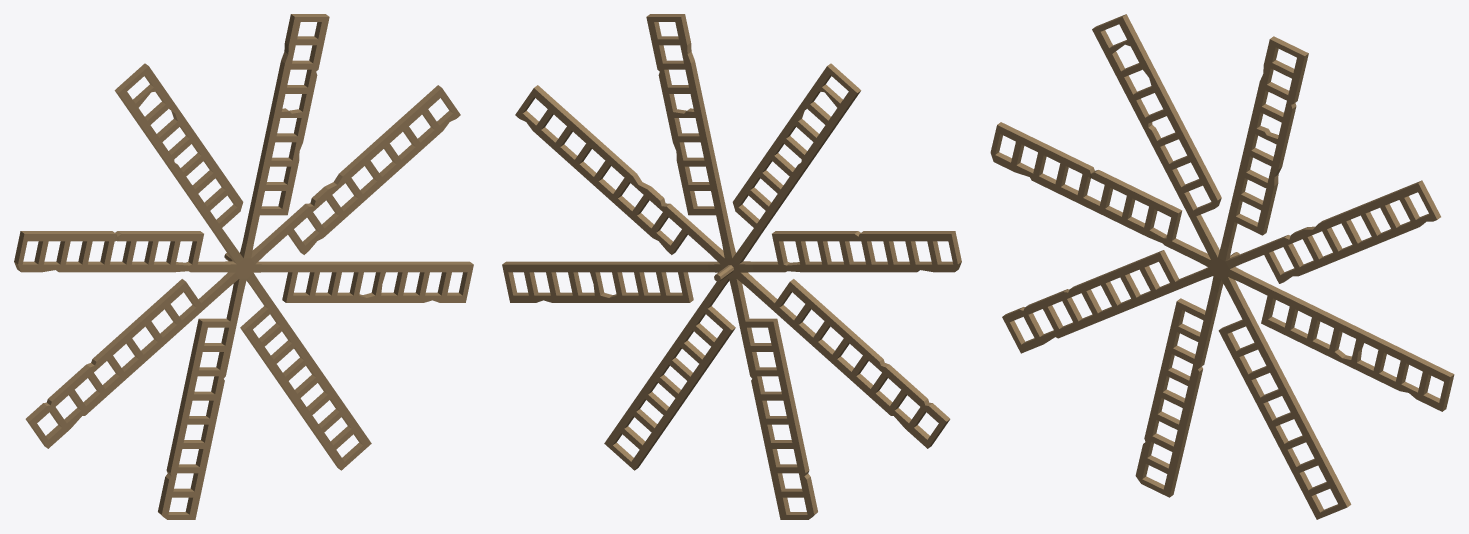
File: bd_windmill_blades.glb
3 renders of one model, left to right at view 1: azimuth 30°, elevation 25°; view 2: azimuth 150°, elevation 25°; view 3: azimuth 330°, elevation 25°, orthographic.
Parts seen in each view (by area): view 1: TowerWindmill_Blades_Cylinder.006; view 2: TowerWindmill_Blades_Cylinder.006; view 3: TowerWindmill_Blades_Cylinder.006.
Part boxes in pixels (x1=…): TowerWindmill_Blades_Cylinder.006: x1=14, y1=14, x2=473, y2=519; TowerWindmill_Blades_Cylinder.006: x1=502, y1=14, x2=961, y2=519; TowerWindmill_Blades_Cylinder.006: x1=990, y1=14, x2=1454, y2=519.
Size of the model in its own units: 7.92 by 7.95 by 0.5283.
